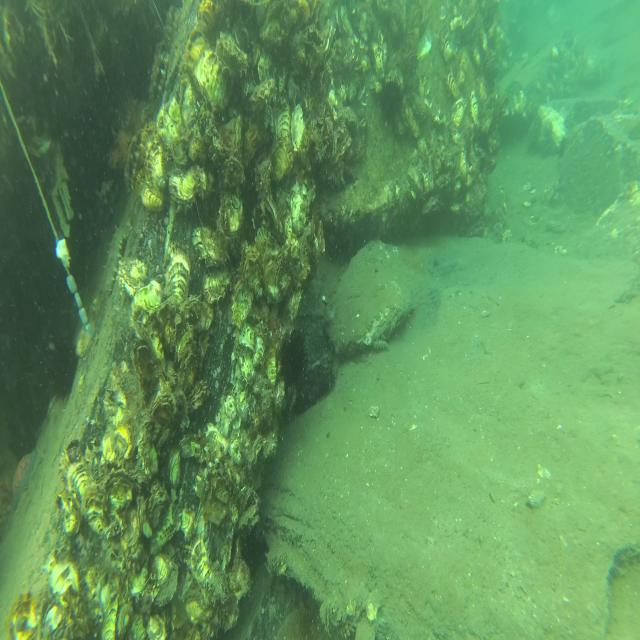echinus: (279, 328, 309, 394), (46, 339, 75, 394), (380, 73, 406, 132), (238, 526, 265, 574)
holothurian: (101, 226, 127, 296)
starfish: (11, 448, 40, 510)
